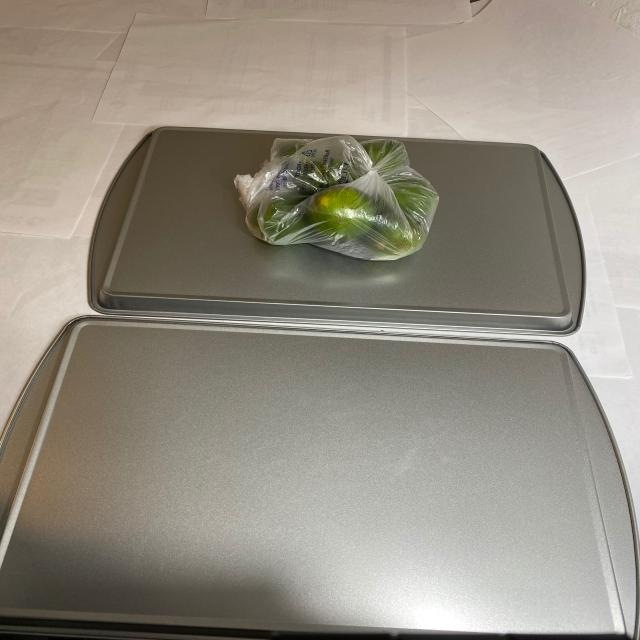lemon: (241, 138, 431, 258)
